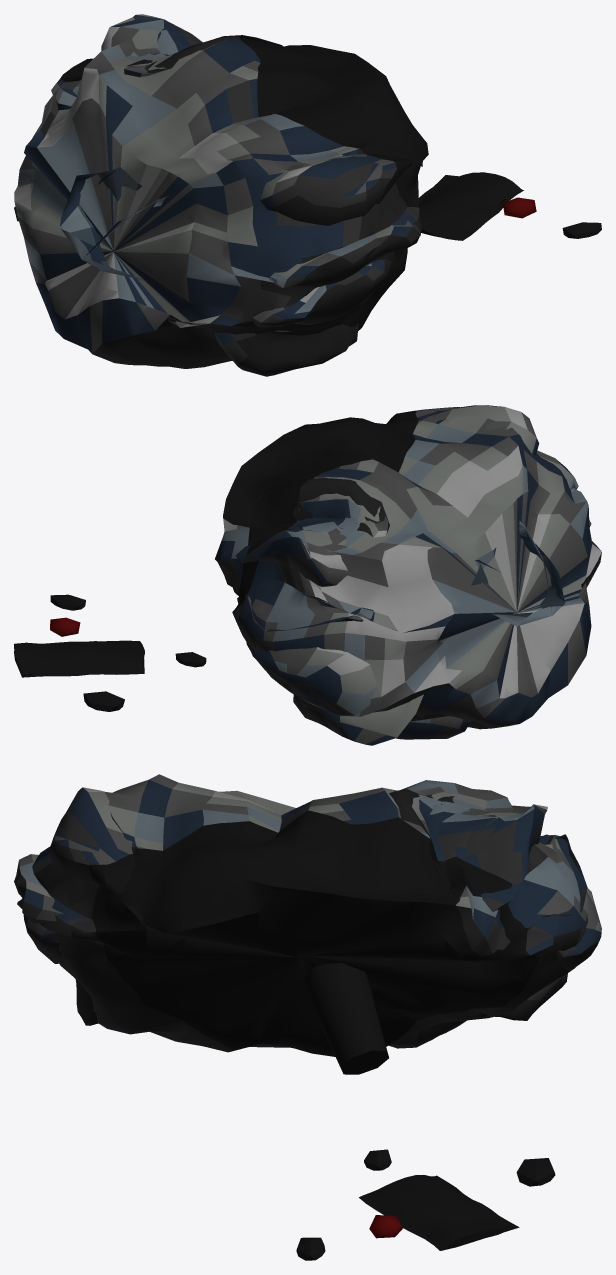
The model's file is miners_roller_l_wreck.glb.
3 renders of one model, top to bottom at view 1: azimuth 30°, elevation 25°; view 2: azimuth 150°, elevation 25°; view 3: azimuth 270°, elevation 25°, orthographic. The views are drawn at different scales.
Visible parts, largest first — view 1: miners_roller_l_wreck; view 2: miners_roller_l_wreck; view 3: miners_roller_l_wreck.
Boxes of the visible parts, bbox=[...] form: miners_roller_l_wreck: bbox=[14, 14, 601, 376]; miners_roller_l_wreck: bbox=[14, 405, 601, 745]; miners_roller_l_wreck: bbox=[14, 774, 601, 1260].
Size of the model in its own units: 18.54 by 8.12 by 15.67.
